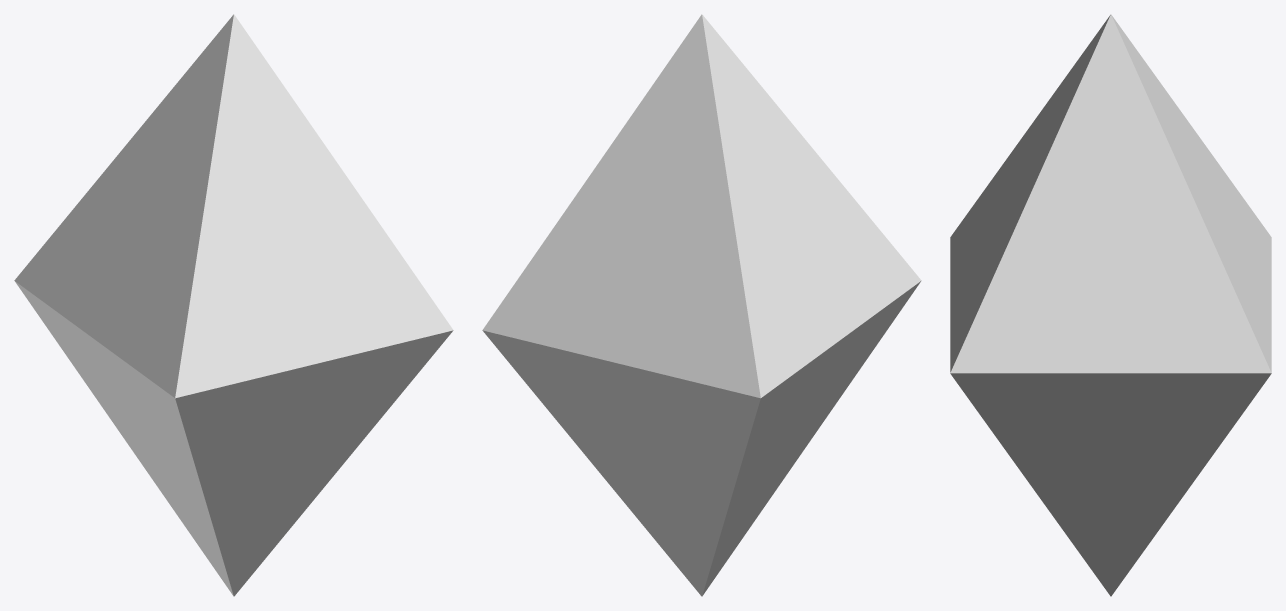
File: Core.fbx
3 renders of one model, left to right at view 1: azimuth 30°, elevation 25°; view 2: azimuth 150°, elevation 25°; view 3: azimuth 270°, elevation 25°, orthographic.
Parts seen in each view (by area): view 1: pyramid; view 2: pyramid; view 3: pyramid.
Boxes of the visible parts, <box> form: pyramid: <box>14,14,453,596</box>; pyramid: <box>482,14,921,596</box>; pyramid: <box>950,14,1271,596</box>.
Bounding box in the file's own units: 100 × 200 × 100.
Materials: 1 (1 with a texture image).
